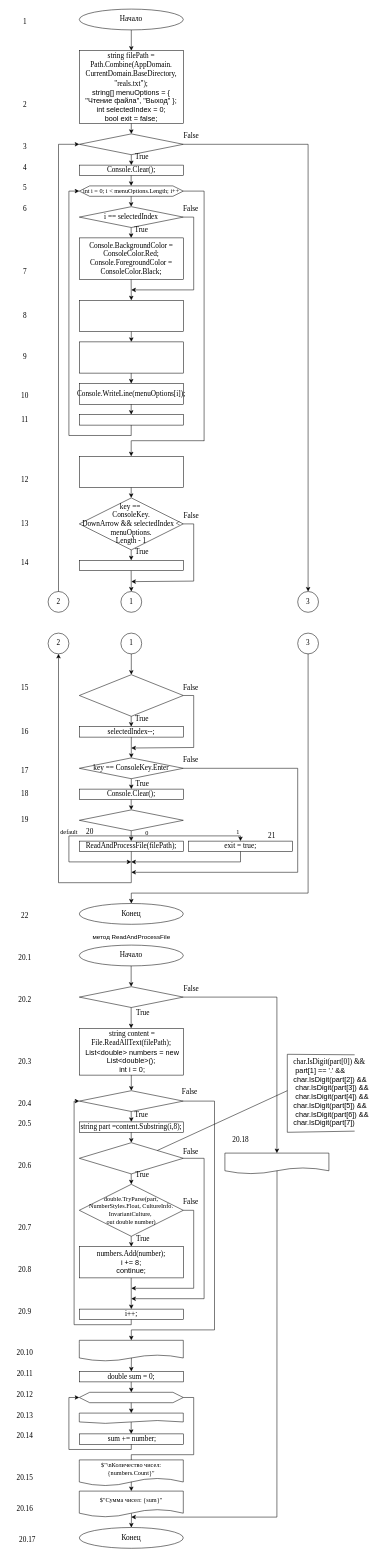
Some shapes in this 389 by 1557 pixel diagram are drawn without their labels. The box of each missing label's shape, as (x1, y1, x2, y2) in pixels:
!exit: (79, 133, 183, 155)
!File.Exists(filePath): (79, 986, 183, 1008)
"Найденные числа:": (79, 1340, 183, 1361)
"Файл reals.txt не найден.": (224, 1153, 329, 1174)
Console.CursorLeft = Console.WindowWidth / 2 - menuOptions[i].Length / 2;: (79, 300, 183, 332)
Console.CursorTop = Console.WindowHeight / 2 - menuOptions.Length + i * 2;: (79, 341, 183, 373)
Console.ResetColor();: (79, 414, 183, 425)
i <= content.Length - 8: (79, 1090, 183, 1112)
key == ConsoleKey.UpArrow && selectedIndex > 0: (79, 674, 183, 716)
number: (79, 1413, 183, 1424)
selectedIndex++;: (79, 560, 183, 571)
selectedIndex?: (79, 809, 183, 831)
var key = Console.ReadKey(true).Key;: (79, 456, 183, 488)
var number in numbers: (79, 1392, 183, 1403)
Проверка на соотвествие числу: (79, 1142, 183, 1174)
